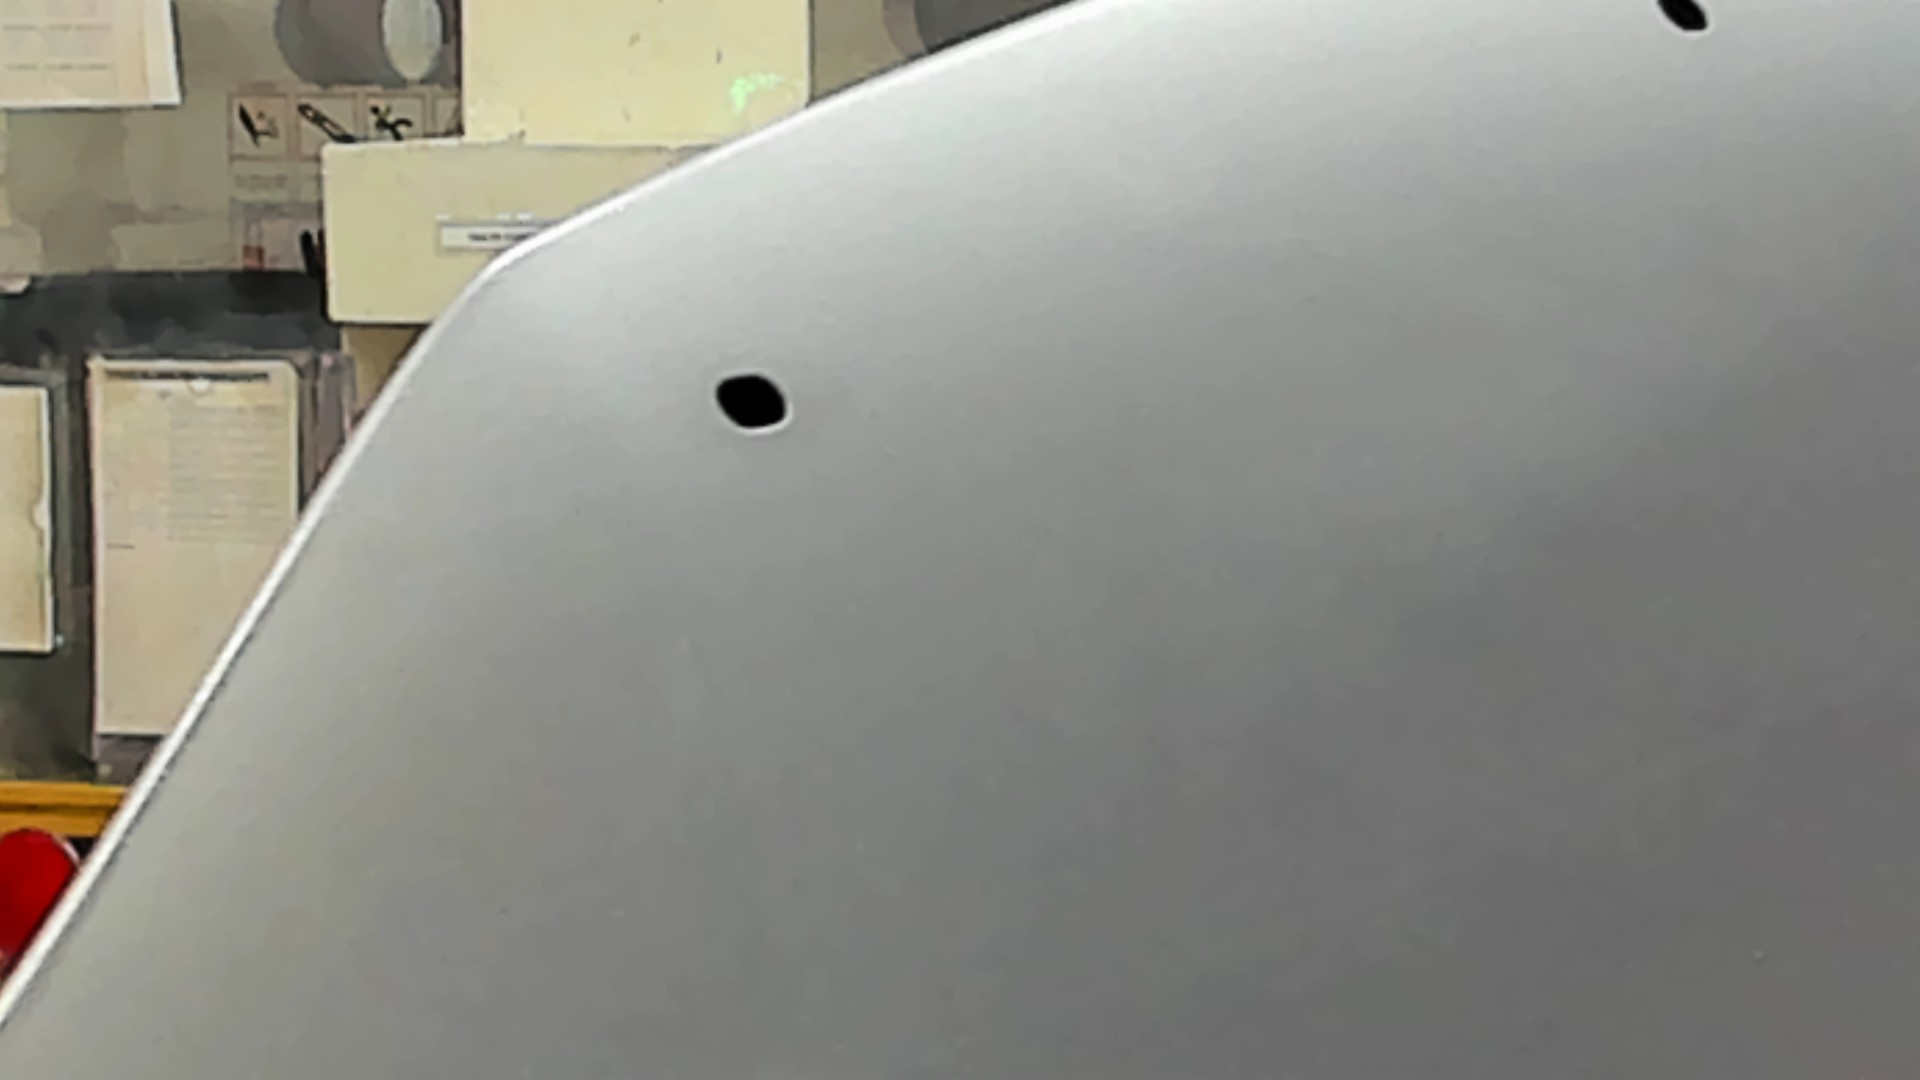chico: (705, 367, 800, 442), (1642, 1, 1727, 49)
